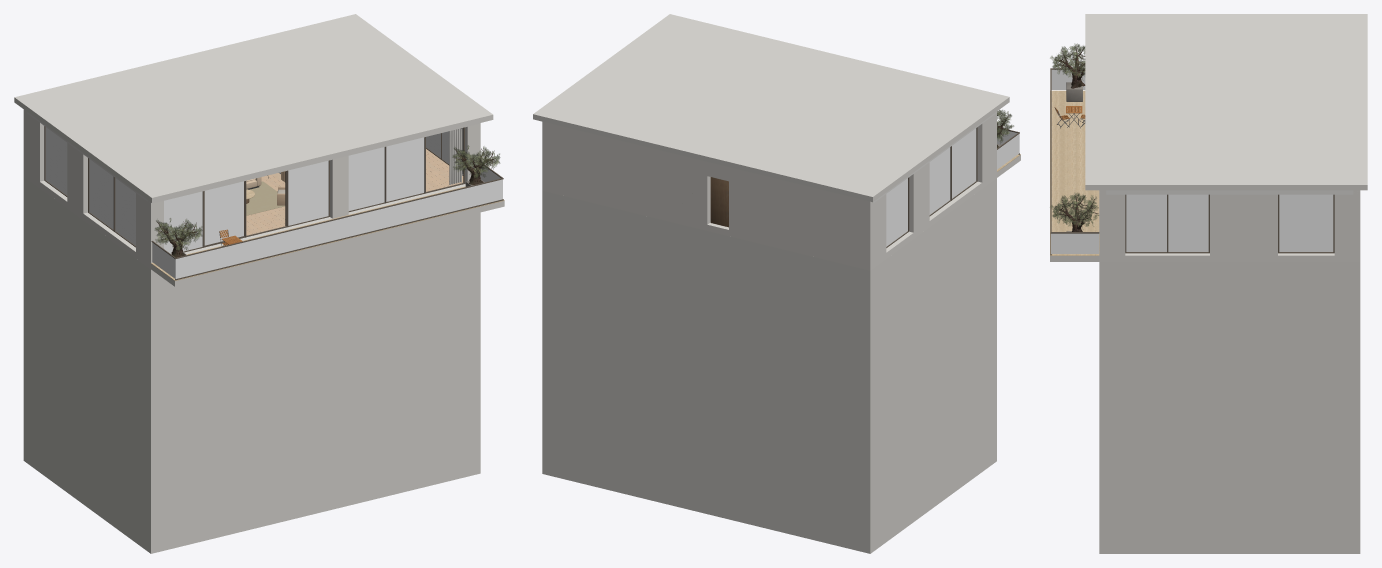
Rendered from wohnung_klein.glb.
The picture shows the model from 3 angles, left to right: view 1: azimuth 30°, elevation 25°; view 2: azimuth 150°, elevation 25°; view 3: azimuth 270°, elevation 25°; orthographic projection. The views are drawn at different scales.
Parts seen in each view (by area): view 1: fassade_unten, dach, glas, gelaender_glas, aw_west, aw_sued, balkon_platte, fensterrahmen, boden, gelaender, olive_o, olive_w (+3 smaller); view 2: fassade_unten, dach, aw_nord, aw_west, glas, wohnungstuer, gelaender_glas; view 3: fassade_unten, dach, aw_ost, glas, balkon_belag, gelaender_glas, decke, olive_o, olive_w, fensterrahmen, aw_sued, aw_nord (+1 smaller).
Boxes of the visible parts, x1=… form: fassade_unten: x1=23, y1=176, x2=480, y2=553; dach: x1=14, y1=14, x2=493, y2=202; glas: x1=45, y1=127, x2=449, y2=253; gelaender_glas: x1=152, y1=166, x2=502, y2=278; aw_west: x1=27, y1=113, x2=147, y2=266; aw_sued: x1=147, y1=123, x2=480, y2=268; balkon_platte: x1=151, y1=201, x2=504, y2=286; fensterrahmen: x1=44, y1=126, x2=464, y2=252; boden: x1=246, y1=149, x2=463, y2=235; gelaender: x1=151, y1=164, x2=503, y2=280; olive_o: x1=452, y1=145, x2=500, y2=184; olive_w: x1=154, y1=218, x2=202, y2=257; fassade_unten: x1=542, y1=178, x2=996, y2=553; dach: x1=533, y1=14, x2=1009, y2=202; aw_nord: x1=542, y1=121, x2=873, y2=270; aw_west: x1=873, y1=115, x2=993, y2=267; glas: x1=886, y1=128, x2=976, y2=246; wohnungstuer: x1=710, y1=177, x2=728, y2=227; gelaender_glas: x1=997, y1=129, x2=1019, y2=169; fassade_unten: x1=1099, y1=262, x2=1360, y2=553; dach: x1=1085, y1=14, x2=1367, y2=190; aw_ost: x1=1106, y1=194, x2=1353, y2=261; glas: x1=1126, y1=194, x2=1333, y2=251; balkon_belag: x1=1050, y1=90, x2=1099, y2=255; gelaender_glas: x1=1051, y1=69, x2=1098, y2=253; decke: x1=1106, y1=190, x2=1357, y2=194; olive_o: x1=1050, y1=193, x2=1099, y2=231; olive_w: x1=1050, y1=43, x2=1085, y2=88; fensterrahmen: x1=1125, y1=194, x2=1334, y2=253; aw_sued: x1=1099, y1=190, x2=1106, y2=261; aw_nord: x1=1353, y1=190, x2=1360, y2=261.
Size of the model in its own units: 17.2 by 17.45 by 13.52.
66 materials, 38 textured.
